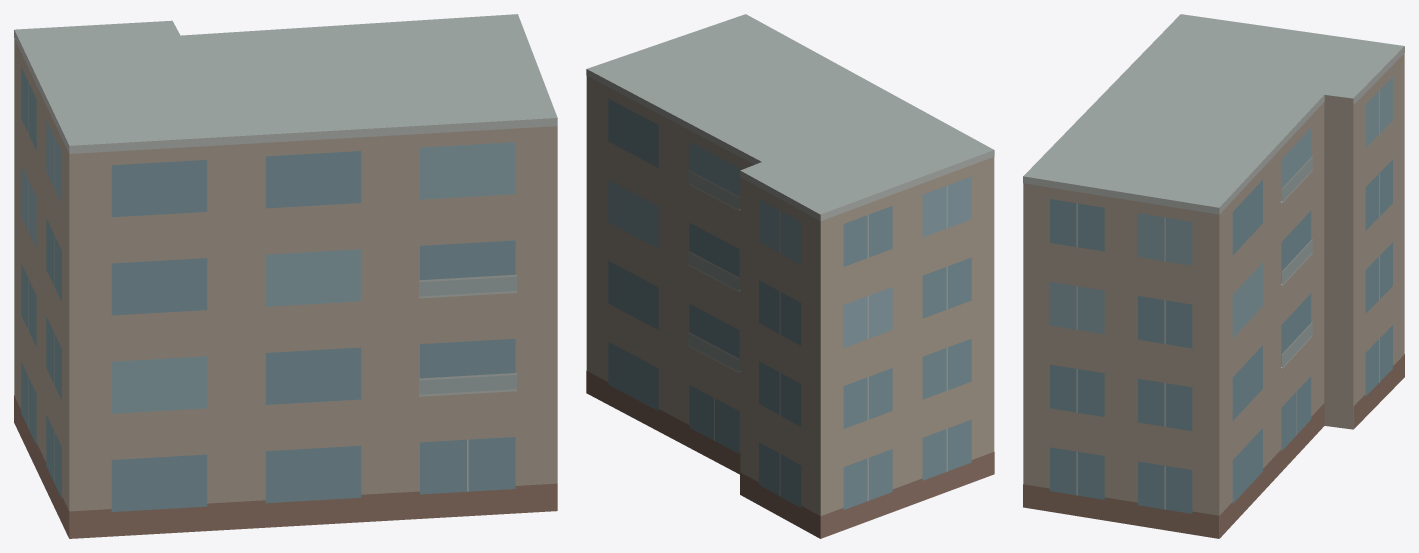
Rendered from survey-upis-32897639.glb.
The picture shows the model from 3 angles, left to right: view 1: azimuth 30°, elevation 25°; view 2: azimuth 150°, elevation 25°; view 3: azimuth 270°, elevation 25°; orthographic projection. The views are drawn at different scales.
Visible parts, largest first — view 1: survey-upis-32897639.tmp; view 2: survey-upis-32897639.tmp; view 3: survey-upis-32897639.tmp.
Part boxes in pixels (x1,y1,x2,y2): survey-upis-32897639.tmp: (14,14,557,538); survey-upis-32897639.tmp: (586,14,994,538); survey-upis-32897639.tmp: (1023,14,1404,538).
Bounding box in the file's own units: 14.82 × 11.8 × 12.34.
